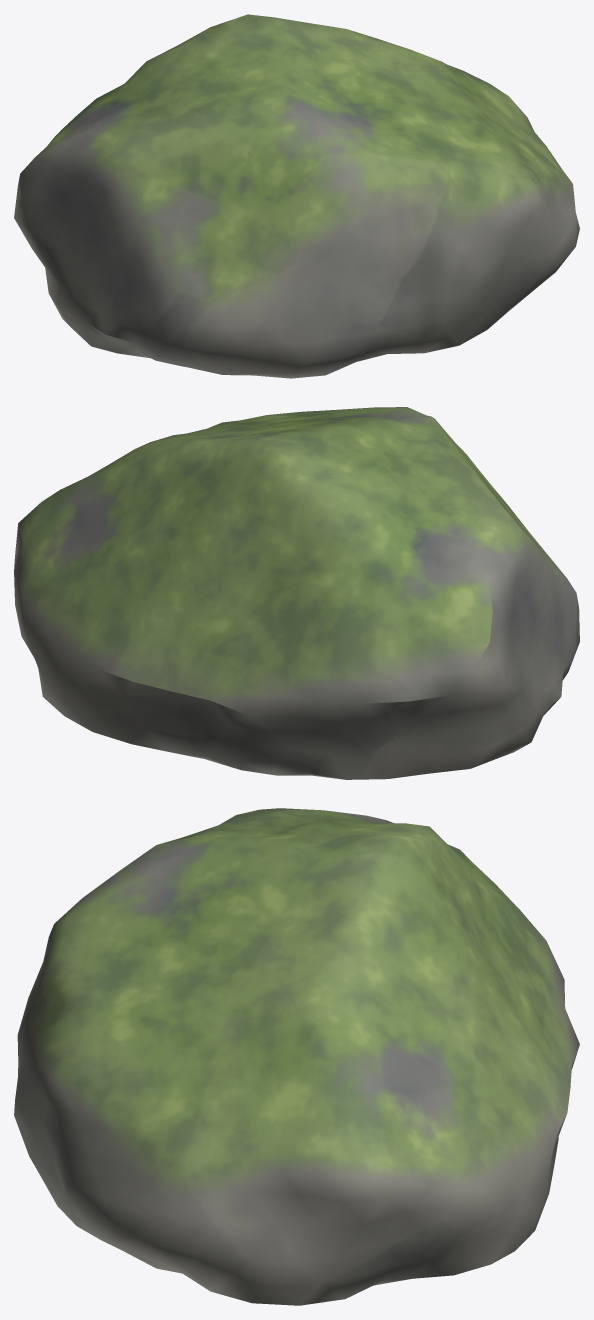
The model's file is rock_small_a.glb.
The picture shows the model from 3 angles, top to bottom: view 1: azimuth 30°, elevation 25°; view 2: azimuth 150°, elevation 25°; view 3: azimuth 270°, elevation 25°; orthographic projection. The views are drawn at different scales.
Visible parts, largest first — view 1: rock_small_a; view 2: rock_small_a; view 3: rock_small_a.
Boxes of the visible parts, left/top/right/bottom form: rock_small_a: left=14, top=14, right=579, bottom=378; rock_small_a: left=14, top=407, right=579, bottom=779; rock_small_a: left=14, top=808, right=579, bottom=1305.
Bounding box in the file's own units: 0.7275 × 0.3741 × 0.5928.
1 material, 1 textured.
